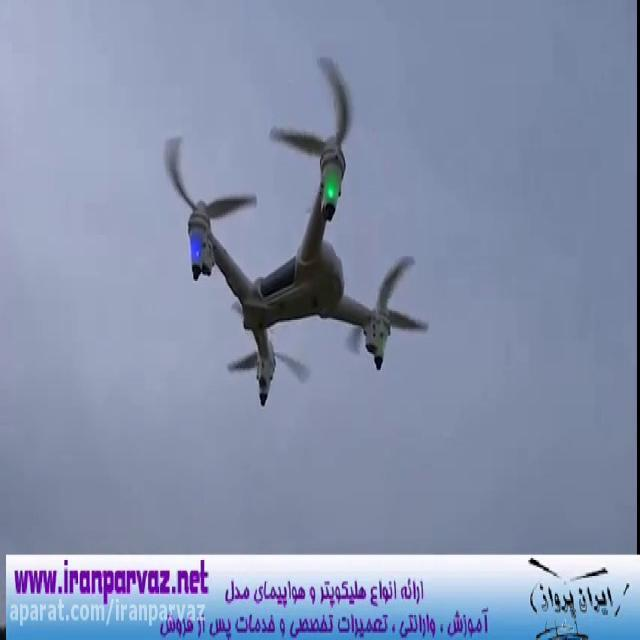drone: (157, 48, 441, 423)
